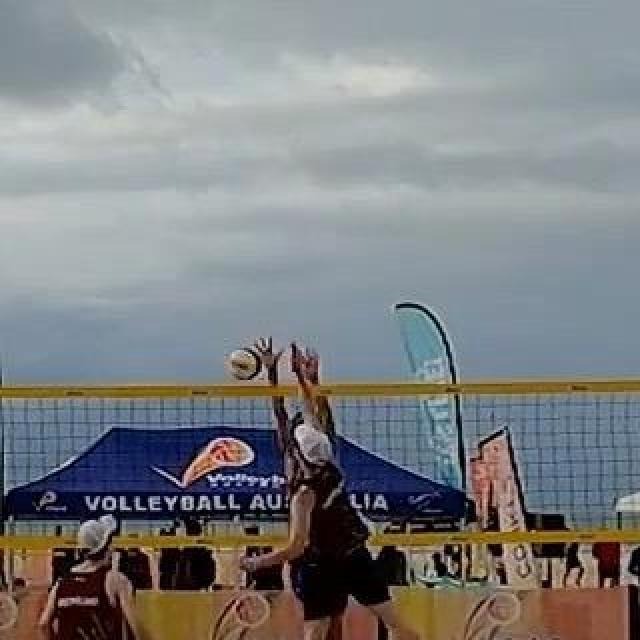volleyball: (225, 349, 259, 379)
